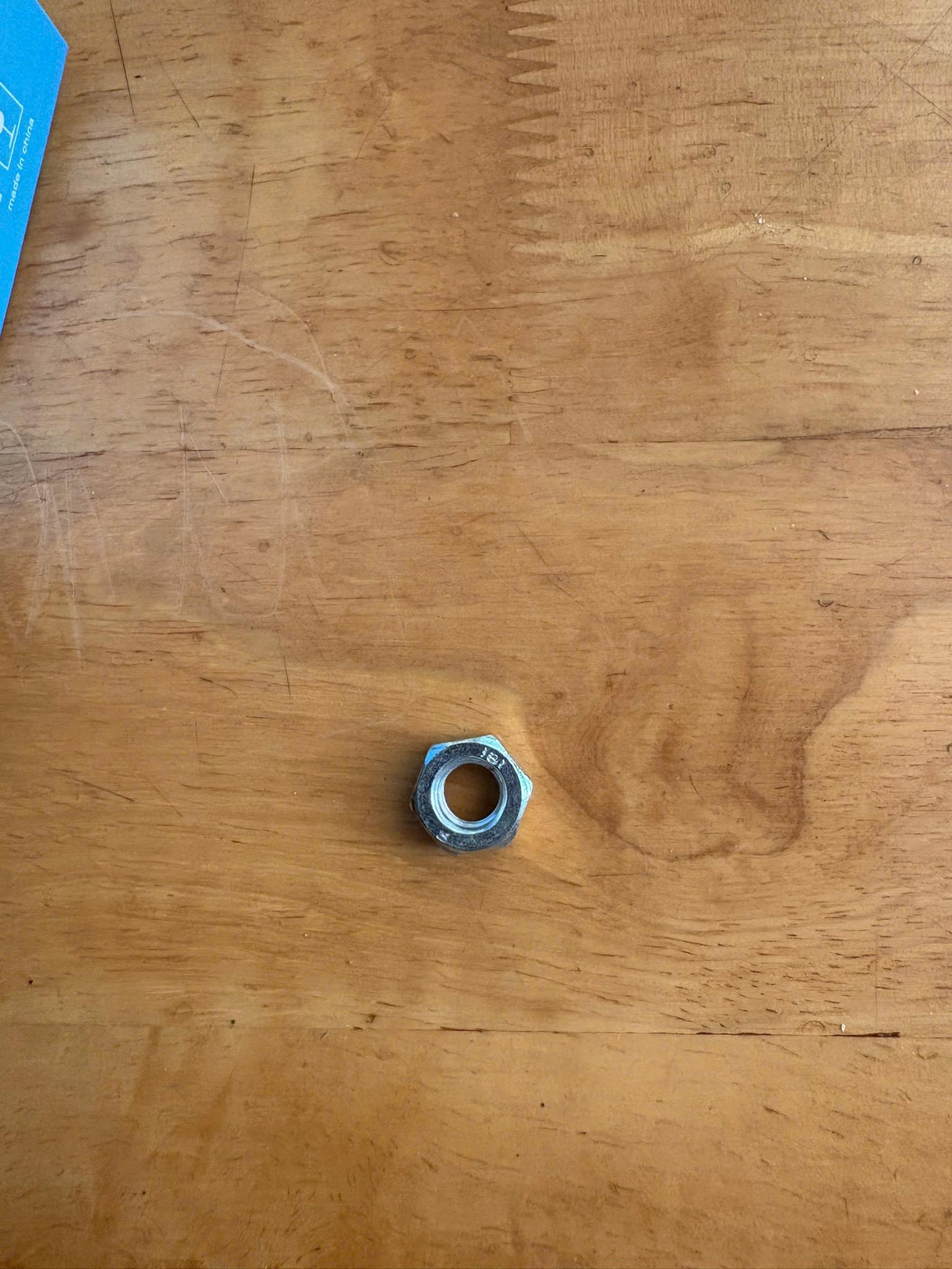nut: (394, 724, 532, 867)
